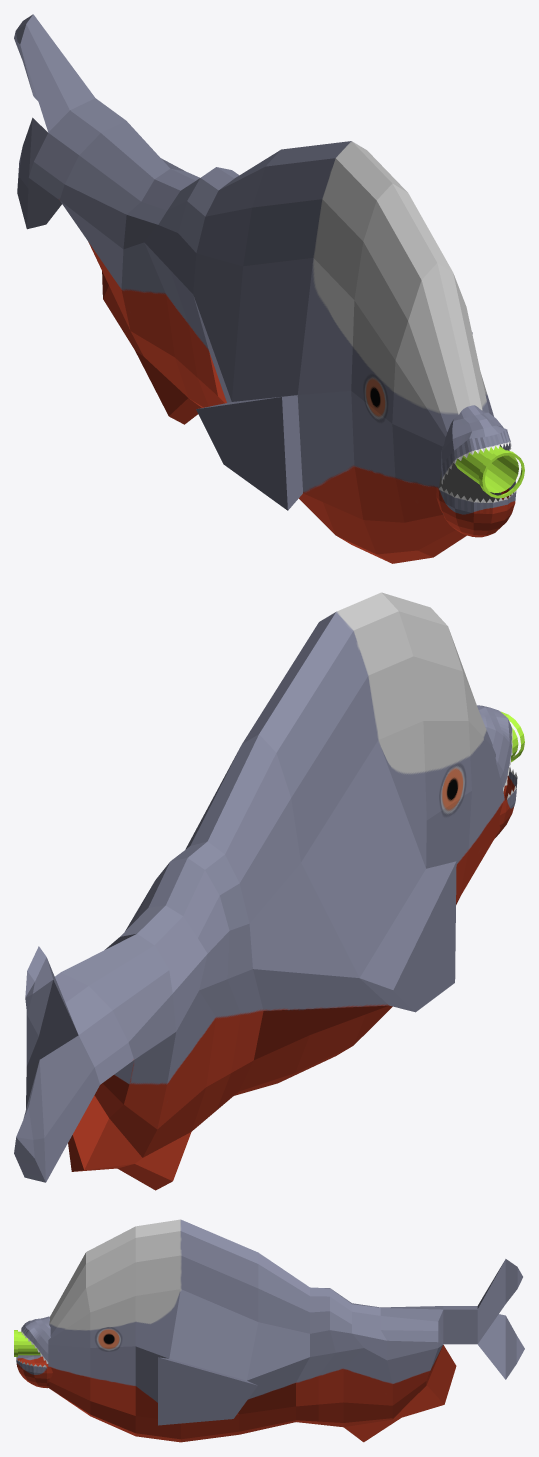
File: Piranha.fbx
3 views of the same model, one above another, from view 1: azimuth 30°, elevation 25°; view 2: azimuth 150°, elevation 25°; view 3: azimuth 270°, elevation 25° (orthographic). The views are drawn at different scales.
Parts seen in each view (by area): view 1: pCylinder6; view 2: pCylinder6; view 3: pCylinder6.
Boxes of the visible parts, x1=… form: pCylinder6: x1=14, y1=14, x2=524, y2=563; pCylinder6: x1=14, y1=592, x2=524, y2=1190; pCylinder6: x1=14, y1=1219, x2=524, y2=1442.
Size of the model in its own units: 72.59 by 137 by 285.
